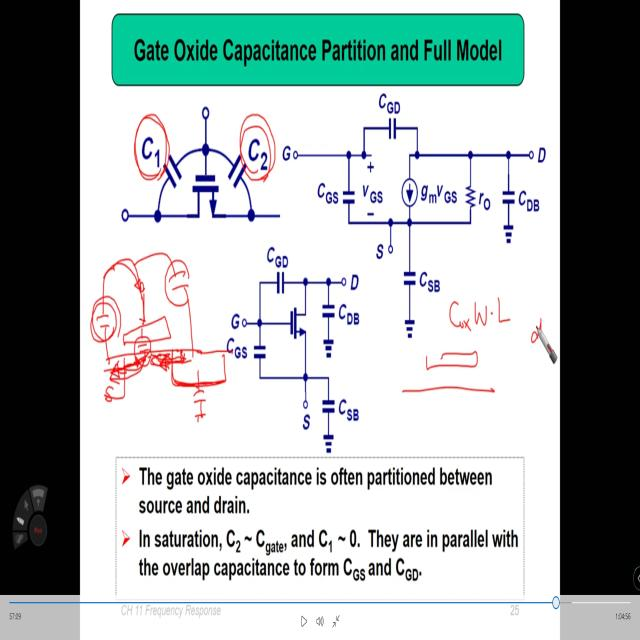panseo: (84, 238, 238, 439), (433, 289, 518, 343)
